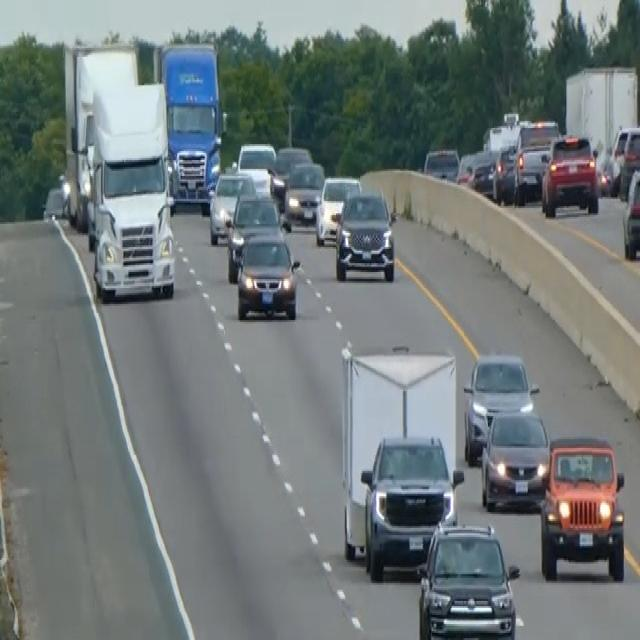car: (416, 519, 520, 638), (462, 350, 538, 464), (479, 406, 550, 510), (235, 228, 300, 320), (334, 188, 396, 282), (224, 190, 283, 281), (540, 131, 599, 217), (513, 118, 559, 205), (208, 167, 256, 244), (314, 172, 361, 245), (282, 160, 324, 228), (268, 144, 312, 206), (236, 138, 276, 194), (621, 166, 639, 260), (491, 140, 518, 202), (618, 125, 639, 199), (467, 147, 499, 195), (422, 144, 459, 181), (41, 185, 65, 220)
jeep: (539, 434, 626, 581)
lorry: (63, 39, 177, 302), (157, 39, 225, 212)
truck: (338, 338, 462, 578)
